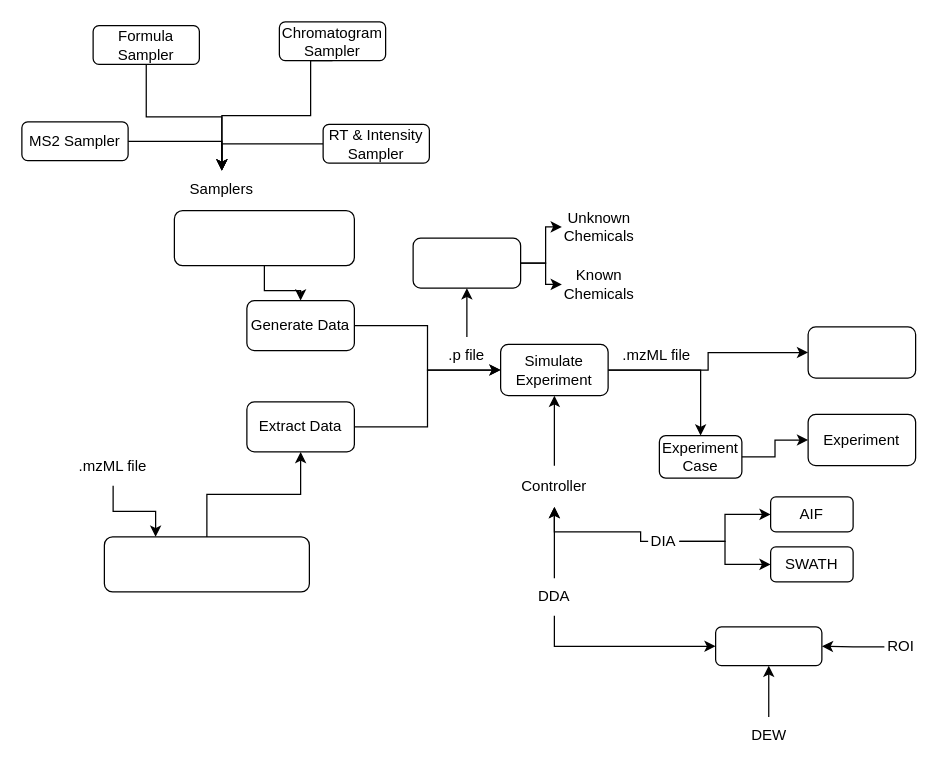
This 940x776 diagram has some shape labels left out. Here are the shapes that lost their labels. From the top down, the box of each, then its label:
(173, 209, 354, 266): ChemicalMixtureCreator
(412, 237, 521, 288): Chemicals
(807, 326, 916, 378): Visualise Result
(103, 536, 309, 592): ChemicalMixtureFromMZML
(714, 626, 822, 666): TopN
